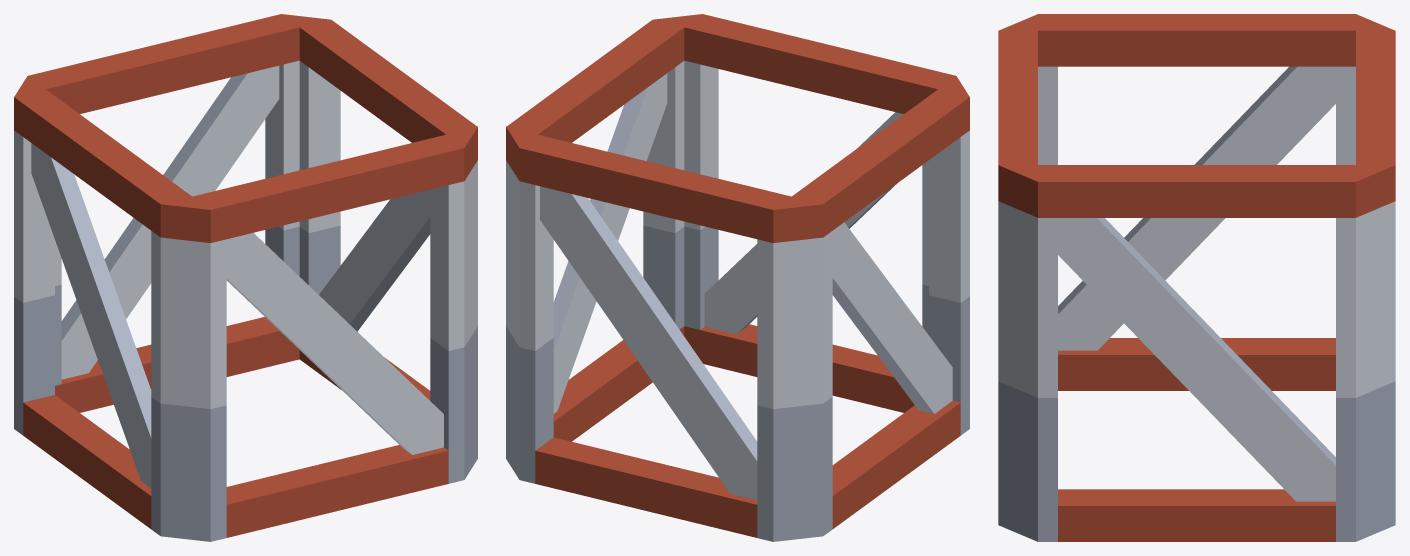
Rendered from iron_mine_rig.obj.
3 views of the same model, side by side, from view 1: azimuth 30°, elevation 25°; view 2: azimuth 150°, elevation 25°; view 3: azimuth 270°, elevation 25° (orthographic). The views are drawn at different scales.
Visible parts, largest first — view 1: structure_diagonal; view 2: structure_diagonal; view 3: structure_diagonal.
Boxes of the visible parts, <box> form: structure_diagonal: <box>14,14,477,541</box>; structure_diagonal: <box>506,14,969,541</box>; structure_diagonal: <box>998,14,1395,541</box>.
Bounding box in the file's own units: 1 × 1 × 1.
